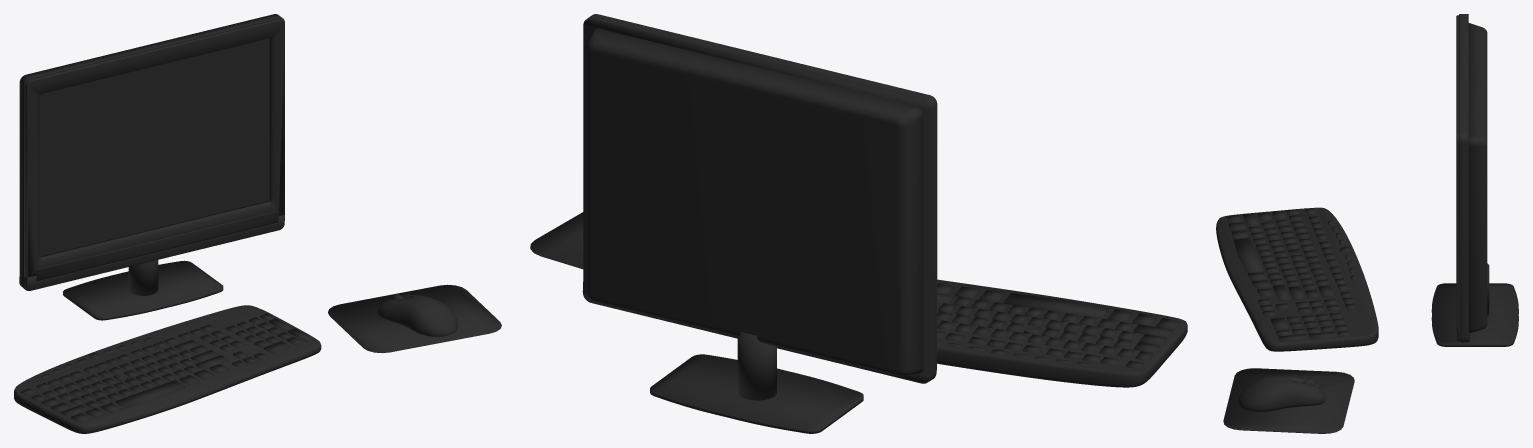
3 renders of one model, left to right at view 1: azimuth 30°, elevation 25°; view 2: azimuth 150°, elevation 25°; view 3: azimuth 270°, elevation 25°, orthographic. The views are drawn at different scales.
Visible parts, largest first — view 1: computer_dxf_001; view 2: computer_dxf_001; view 3: computer_dxf_001.
Part boxes in pixels (<box>): computer_dxf_001: <box>14,14,501,433</box>; computer_dxf_001: <box>530,14,1187,433</box>; computer_dxf_001: <box>1216,14,1518,433</box>.
Size of the model in its own units: 1.48 by 0.7772 by 0.8714.
1 material, 1 textured.
